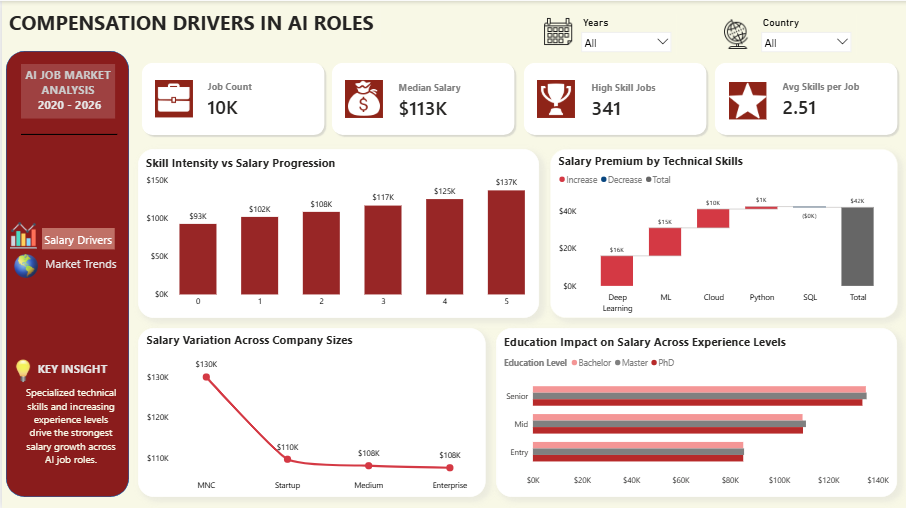

What the dashboard file says about the page in this screenshot:
{"tool":"powerbi","page":{"name":"Salary Drivers","canvas":[1690,950],"ordinal":0},"visuals":[{"type":"shape","box":[8,94,230,834],"z":0,"group":"g8"},{"type":"shape","box":[254,108,356,149.2],"z":0,"group":"g2"},{"type":"shape","box":[610,108,356,149],"z":0,"group":"g1"},{"type":"shape","box":[968,108,356,149],"z":0,"group":"g3"},{"type":"shape","box":[1326,108,356,149],"z":0,"group":"g4"},{"type":"cardVisual","fields":{"Data":["_Measures.Jobs Count"]},"box":[354.6,128,213.2,110],"z":1000,"group":"g2"},{"type":"cardVisual","fields":{"Data":["_Measures.Median Salary"]},"box":[712.6,128,213.2,112],"z":1000,"group":"g1"},{"type":"cardVisual","fields":{"Data":["_Measures.High Skill Intensity"]},"box":[1072.6,128,213.2,112],"z":1000,"group":"g3"},{"type":"cardVisual","fields":{"Data":["_Measures.Average Skill"]},"box":[1430.6,128,211.2,110],"z":1000,"group":"g4"},{"type":"clusteredBarChart","title":"Education Impact on Salary Across Experience Levels","fields":{"Category":["fact_ai_job_market.experience_level"],"Y":["_Measures.Median Salary"],"Series":["fact_ai_job_market.education_level"]},"box":[924,612,750,316],"z":1000},{"type":"textbox","box":[0,10,708,64],"z":2000},{"type":"image","box":[641.7,147.5,70.6,70.7],"z":2000,"group":"g1"},{"type":"image","box":[999.9,147.5,71.2,70.6],"z":2000,"group":"g3"},{"type":"image","box":[285.1,147.6,70.6,70],"z":2000,"group":"g2"},{"type":"image","box":[1359.9,150.8,70.5,70],"z":2000,"group":"g4"},{"type":"waterfallChart","title":"Salary Premium by Technical Skills","fields":{"Category":["bridge_skill_table.skill"],"Y":["_Measures.Premium"]},"box":[1024,276,650,316],"z":3000},{"type":"slicer","fields":{"Values":["fact_ai_job_market.job_posting_year"]},"box":[1073.3,24,188.2,76.4],"z":4000,"group":"g5"},{"type":"slicer","fields":{"Values":["dim_country.country"]},"box":[1409.1,24,187.7,76.4],"z":4000,"group":"g6"},{"type":"lineChart","title":"Salary Variation Across Company Sizes","fields":{"Category":["fact_ai_job_market.company_size"],"Y":["_Measures.Median Salary"]},"box":[254,612,650,316],"z":4000},{"type":"columnChart","title":"Skill Intensity vs Salary Progression","fields":{"Y":["_Measures.Median Salary"],"Category":["fact_ai_job_market.total_skills"]},"box":[254,276,750,316],"z":5000},{"type":"group","id":"g1","title":"Group 1","box":[610,108,358,150],"z":6000},{"type":"group","id":"g2","title":"Group 1","box":[254,108,357,150],"z":7000},{"type":"group","id":"g3","title":"Group 1","box":[968,108,358,150],"z":8000},{"type":"group","id":"g4","title":"Group 1","box":[1326,108,358,150],"z":9000},{"type":"group","id":"g5","title":"Group 2","box":[1006,24,255.4,76.4],"z":10000},{"type":"group","id":"g6","title":"Group 2","box":[1340,24,256,76],"z":11000},{"type":"actionButton","box":[76,424,136,40],"z":12000,"group":"g7"},{"type":"image","box":[1006,30,68,56],"z":12001,"group":"g5"},{"type":"image","box":[1340,34,68,56],"z":12001,"group":"g6"},{"type":"actionButton","box":[77.6,469.6,153.3,41.1],"z":13000,"group":"g7"},{"type":"textbox","box":[36,118,176,102],"z":14000,"group":"g7"},{"type":"image","box":[16,414,50,50],"z":15000,"group":"g7"},{"type":"image","box":[16,466,60,60],"z":16000,"group":"g7"},{"type":"textbox","box":[33,710.8,194.5,170.2],"z":17000,"group":"g7"},{"type":"textbox","box":[62.7,667.8,144,46.8],"z":18000,"group":"g7"},{"type":"image","box":[15.9,667.8,48.6,46.8],"z":19000,"group":"g7"},{"type":"shape","box":[36,222,180,54],"z":20000,"group":"g7"},{"type":"group","id":"g7","title":"Group 3","box":[15.9,118,215.1,763],"z":20001,"group":"g8"},{"type":"group","id":"g8","title":"Group 3","box":[8,94,230,834],"z":20002}]}

Visuals, with their boxes in screenshot pixels (x1, y1, x2, y2), scaled from the page's 1690x950 canvas onto the 906x508 screenshot:
shape: x1=4 y1=50 x2=128 y2=496
shape: x1=136 y1=58 x2=327 y2=138
shape: x1=327 y1=58 x2=518 y2=137
shape: x1=519 y1=58 x2=710 y2=137
shape: x1=711 y1=58 x2=902 y2=137
cardVisual - _Measures.Jobs Count: x1=190 y1=68 x2=304 y2=127
cardVisual - _Measures.Median Salary: x1=382 y1=68 x2=496 y2=128
cardVisual - _Measures.High Skill Intensity: x1=575 y1=68 x2=689 y2=128
cardVisual - _Measures.Average Skill: x1=767 y1=68 x2=880 y2=127
"Education Impact on Salary Across Experience Levels" clusteredBarChart: x1=495 y1=327 x2=897 y2=496
textbox: x1=0 y1=5 x2=380 y2=40
image: x1=344 y1=79 x2=382 y2=117
image: x1=536 y1=79 x2=574 y2=117
image: x1=153 y1=79 x2=191 y2=116
image: x1=729 y1=81 x2=767 y2=118
"Salary Premium by Technical Skills" waterfallChart: x1=549 y1=148 x2=897 y2=317
slicer - fact_ai_job_market.job_posting_year: x1=575 y1=13 x2=676 y2=54
slicer - dim_country.country: x1=755 y1=13 x2=856 y2=54
"Salary Variation Across Company Sizes" lineChart: x1=136 y1=327 x2=485 y2=496
"Skill Intensity vs Salary Progression" columnChart: x1=136 y1=148 x2=538 y2=317
"Group 1" group: x1=327 y1=58 x2=519 y2=138
"Group 1" group: x1=136 y1=58 x2=328 y2=138
"Group 1" group: x1=519 y1=58 x2=711 y2=138
"Group 1" group: x1=711 y1=58 x2=903 y2=138
"Group 2" group: x1=539 y1=13 x2=676 y2=54
"Group 2" group: x1=718 y1=13 x2=856 y2=53
actionButton: x1=41 y1=227 x2=114 y2=248
image: x1=539 y1=16 x2=576 y2=46
image: x1=718 y1=18 x2=755 y2=48
actionButton: x1=42 y1=251 x2=124 y2=273
textbox: x1=19 y1=63 x2=114 y2=118
image: x1=9 y1=221 x2=35 y2=248
image: x1=9 y1=249 x2=41 y2=281
textbox: x1=18 y1=380 x2=122 y2=471
textbox: x1=34 y1=357 x2=111 y2=382
image: x1=9 y1=357 x2=35 y2=382
shape: x1=19 y1=119 x2=116 y2=148
"Group 3" group: x1=9 y1=63 x2=124 y2=471
"Group 3" group: x1=4 y1=50 x2=128 y2=496
